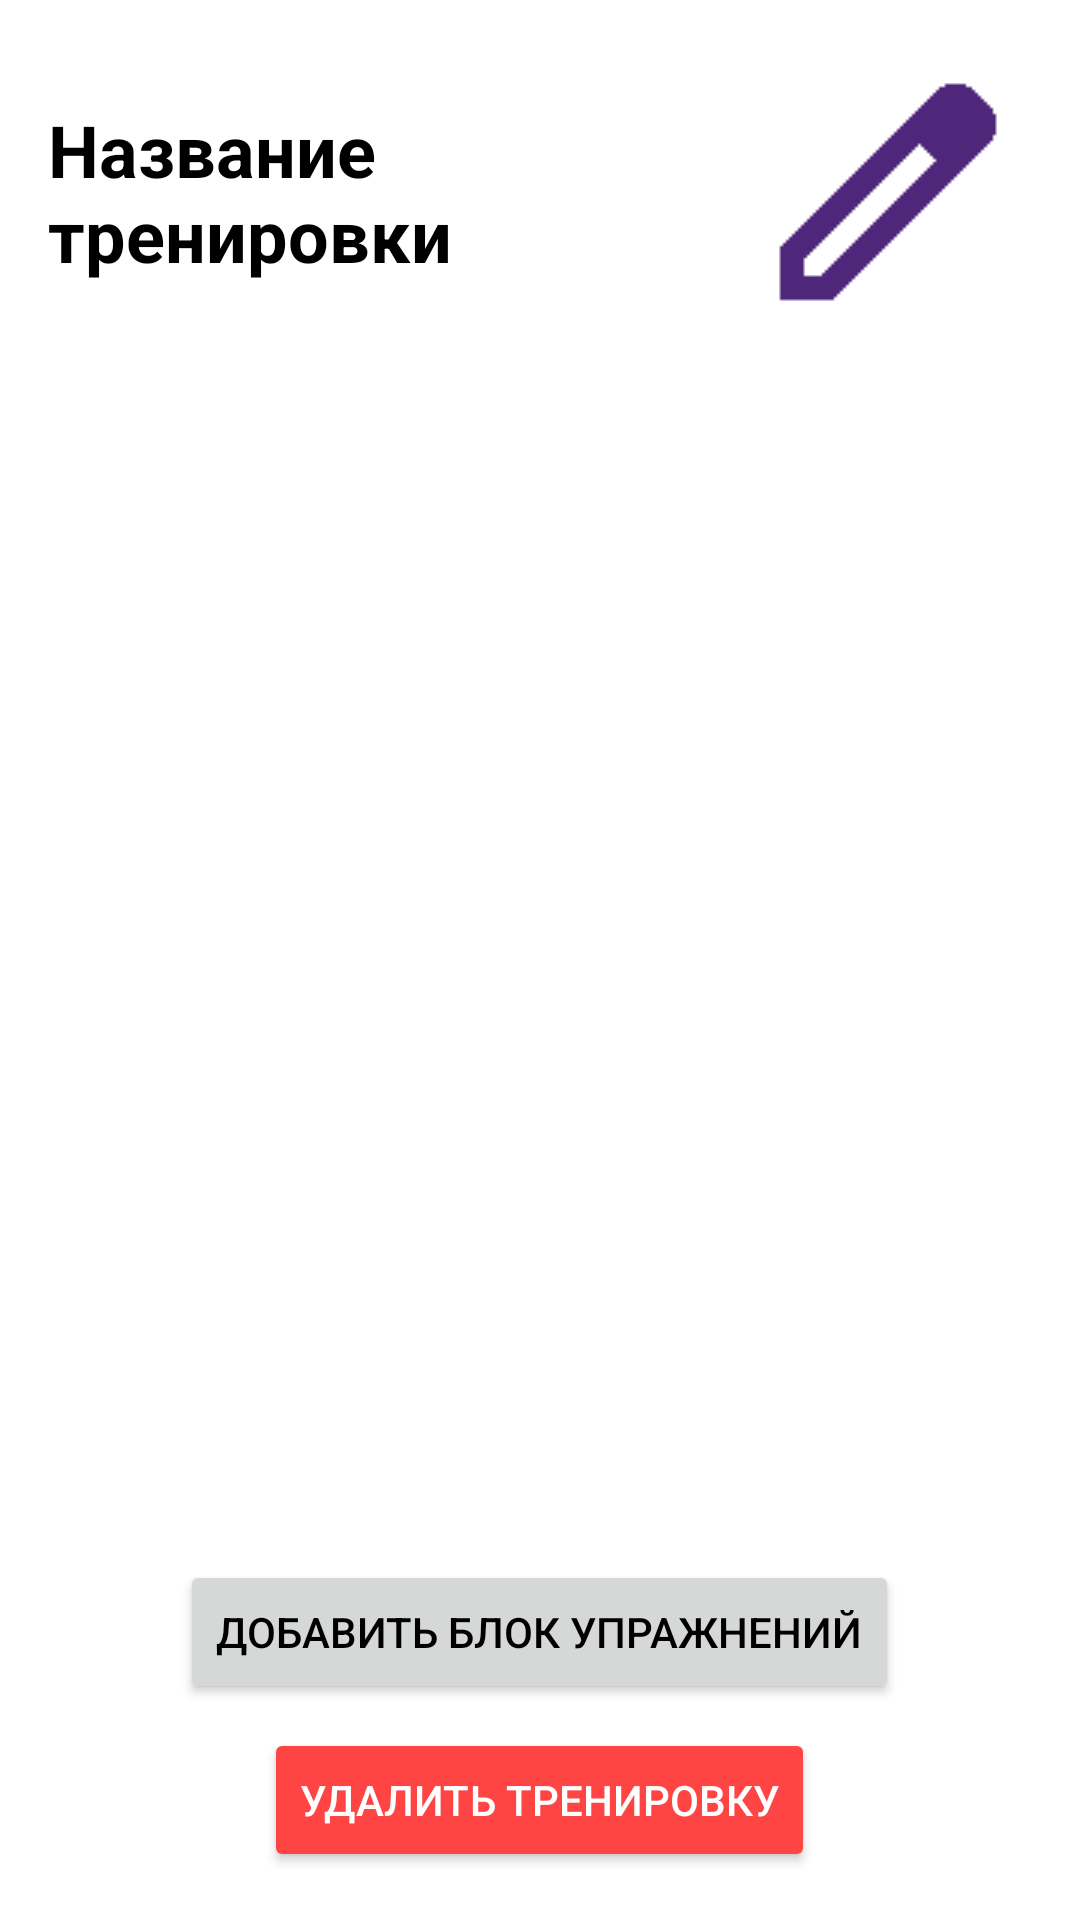

Where icons sit on this 1080*1920 app screen, as (x1, y1, x2, y2):
edit: (779, 83, 997, 301)
